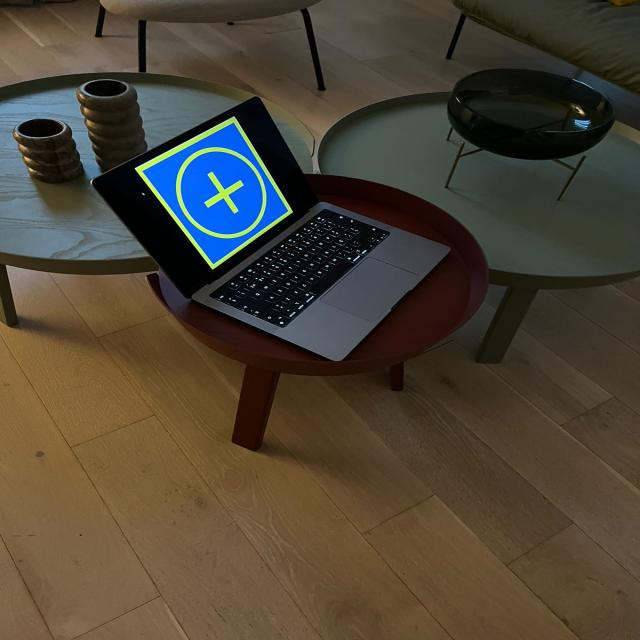Marker: (134, 116, 292, 269)
